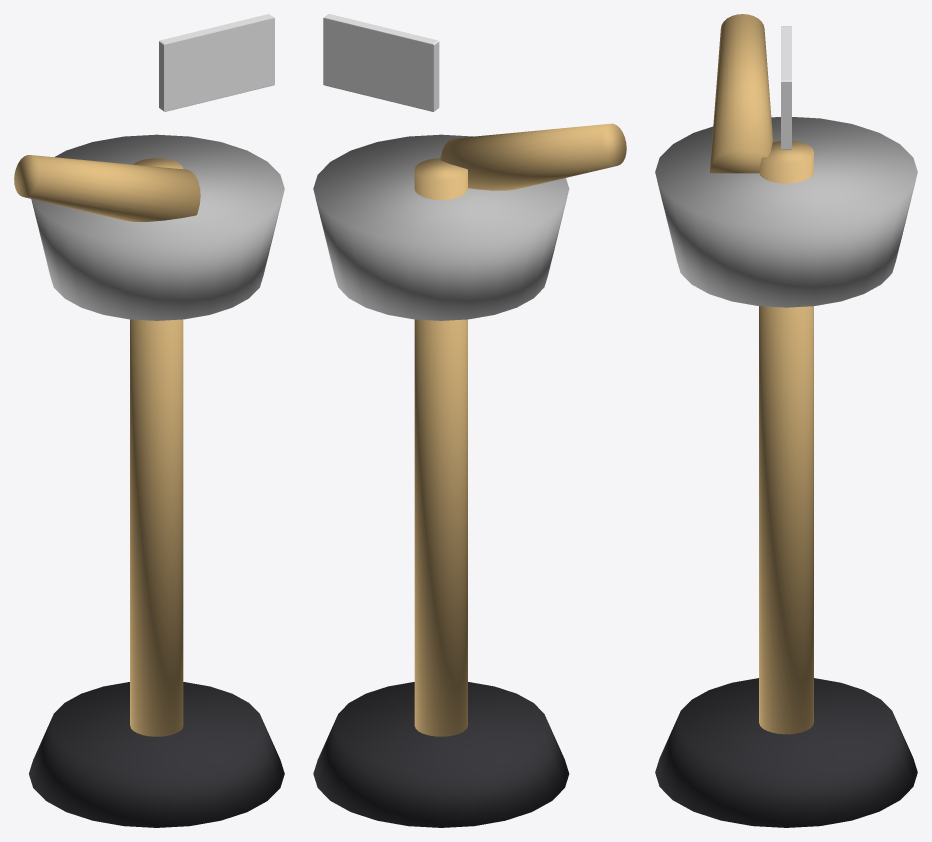
File: radar.glb
3 views of the same model, side by side, from view 1: azimuth 30°, elevation 25°; view 2: azimuth 150°, elevation 25°; view 3: azimuth 270°, elevation 25° (orthographic). The views are drawn at different scales.
Visible parts, largest first — view 1: machines/radar; view 2: machines/radar; view 3: machines/radar.
Part boxes in pixels (<box>): machines/radar: <box>14,14,284,827</box>; machines/radar: <box>313,14,626,827</box>; machines/radar: <box>655,14,917,827</box>.
Bounding box in the file's own units: 0.5923 × 1.51 × 0.48.
